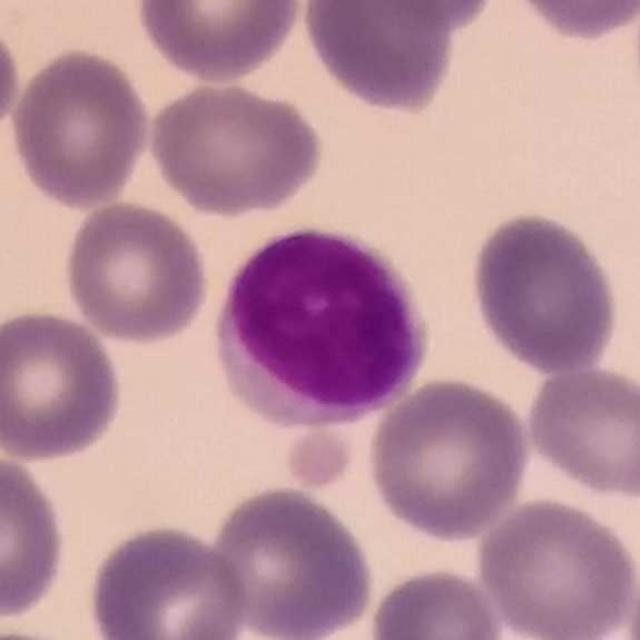Lymphocyte: (208, 218, 435, 428)
Platelets: (275, 426, 358, 493)
RBC: (363, 373, 534, 543), (205, 482, 377, 639), (467, 207, 622, 376), (144, 77, 326, 218), (5, 44, 154, 212), (473, 493, 638, 640), (59, 197, 214, 346), (0, 304, 127, 464), (85, 520, 252, 640), (298, 0, 461, 117), (521, 361, 640, 502), (132, 0, 308, 86), (0, 448, 71, 626), (364, 563, 508, 640), (325, 0, 504, 35), (501, 0, 639, 42), (0, 18, 23, 145)
